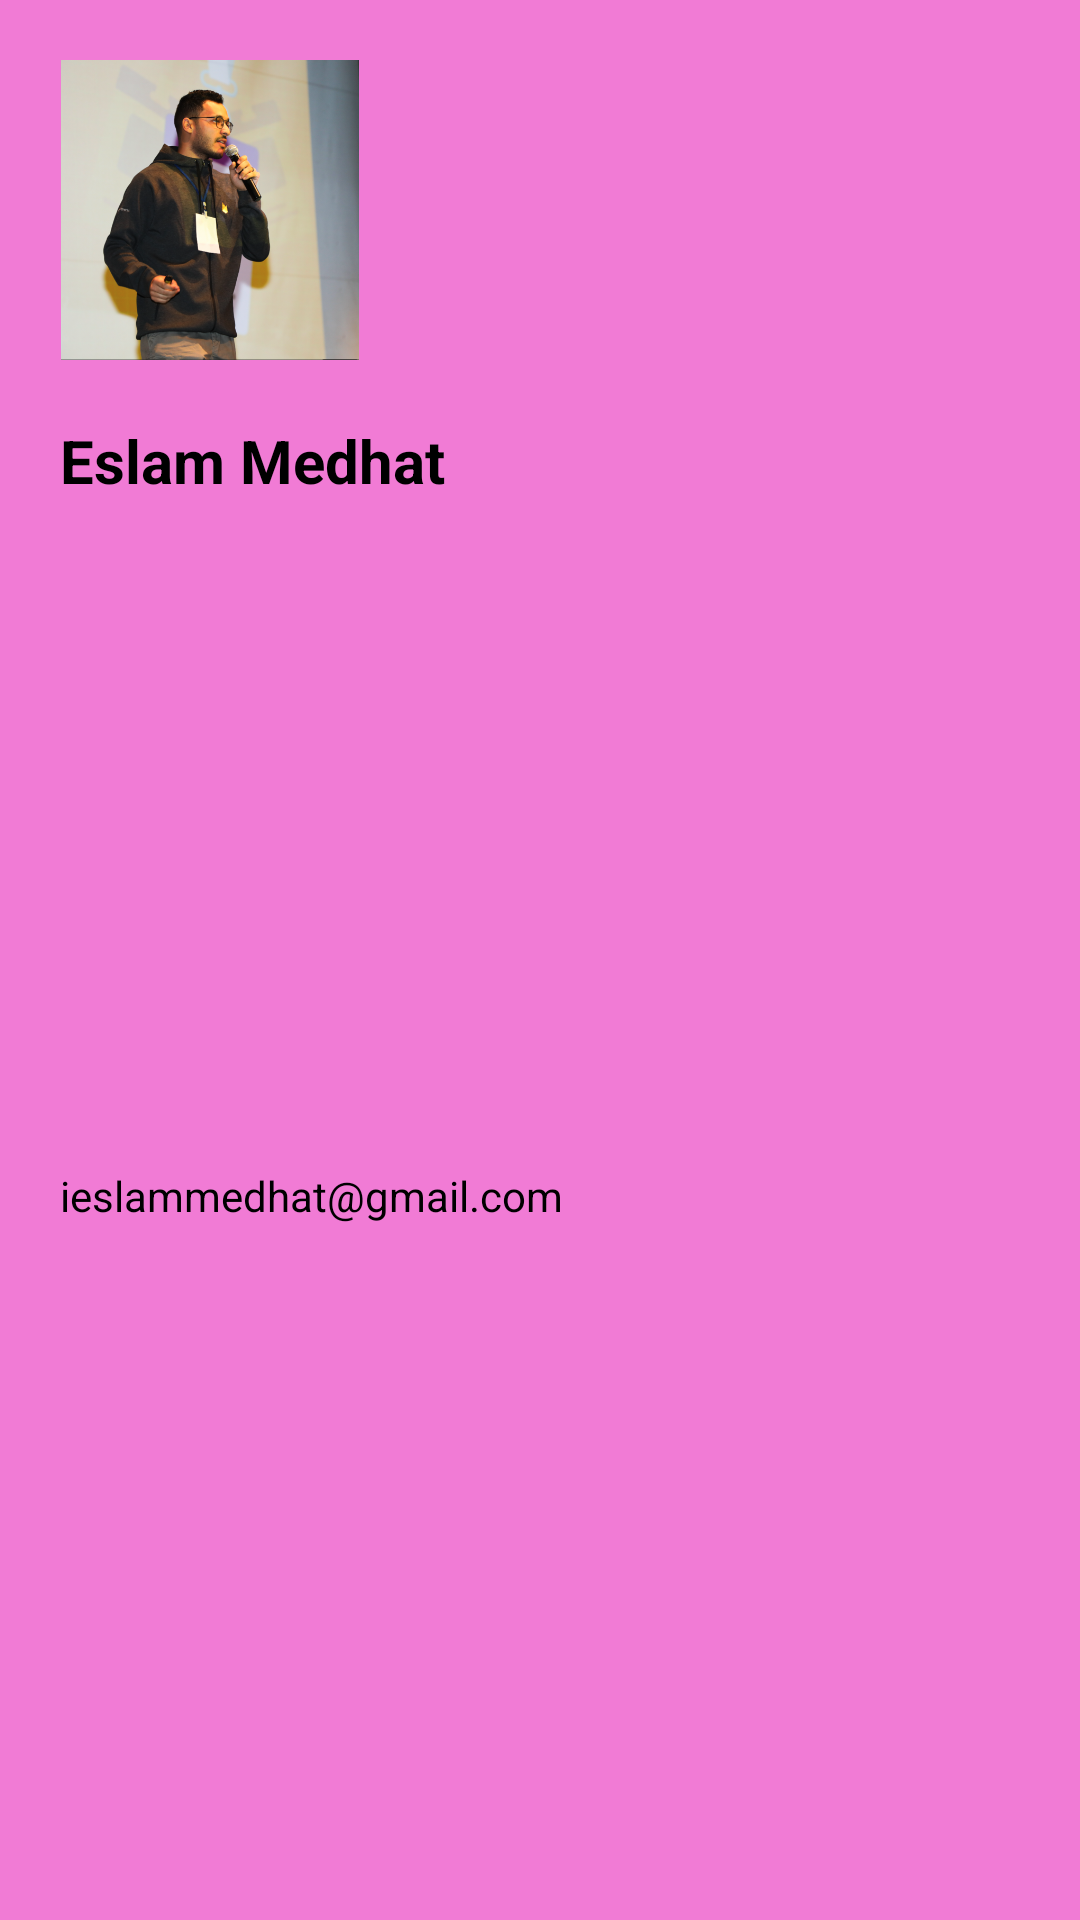

Icon click points for this 1080 × 1920 phone screenshot, format (x=x, y=y):
myimage: (x=210, y=210)
